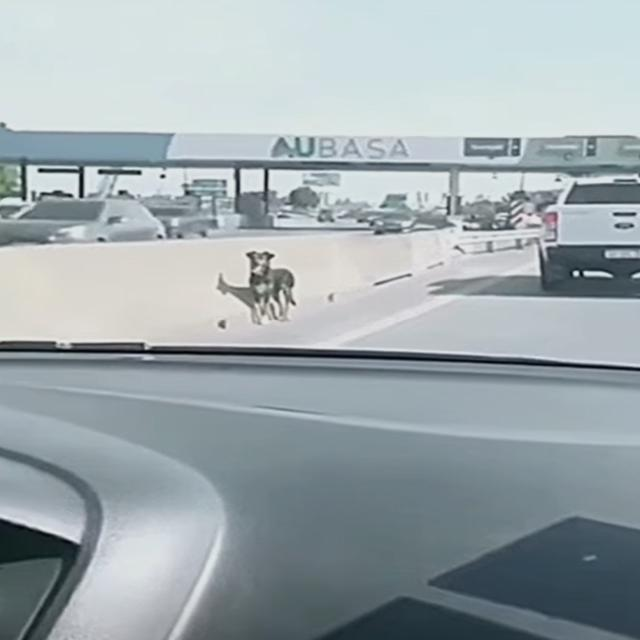dog: (191, 248, 333, 322)
